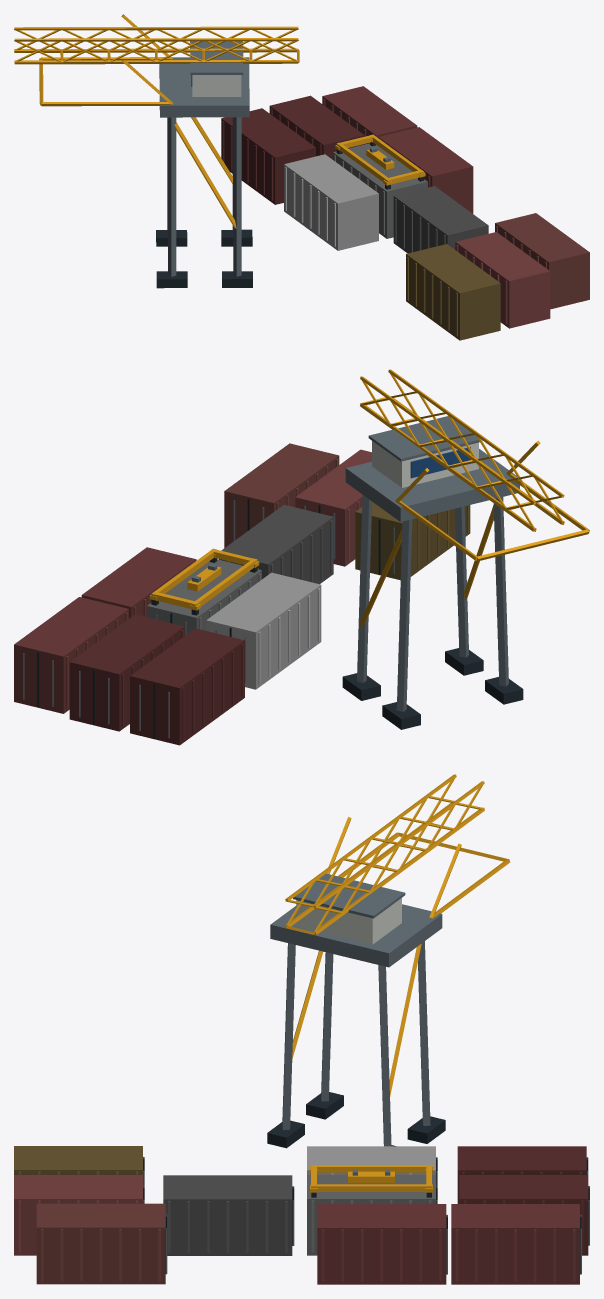
File: gantry-crane-n-s-11.glb
3 renders of one model, top to bottom at view 1: azimuth 30°, elevation 25°; view 2: azimuth 150°, elevation 25°; view 3: azimuth 270°, elevation 25°, orthographic. The views are drawn at different scales.
Visible parts, largest first — view 1: gantry-crane-n-s-11; view 2: gantry-crane-n-s-11; view 3: gantry-crane-n-s-11.
Part boxes in pixels (bbox=[...]): gantry-crane-n-s-11: bbox=[14, 14, 589, 340]; gantry-crane-n-s-11: bbox=[14, 369, 589, 745]; gantry-crane-n-s-11: bbox=[14, 774, 589, 1284].
Bounding box in the file's own units: 56.99 × 31.18 × 58.96.
